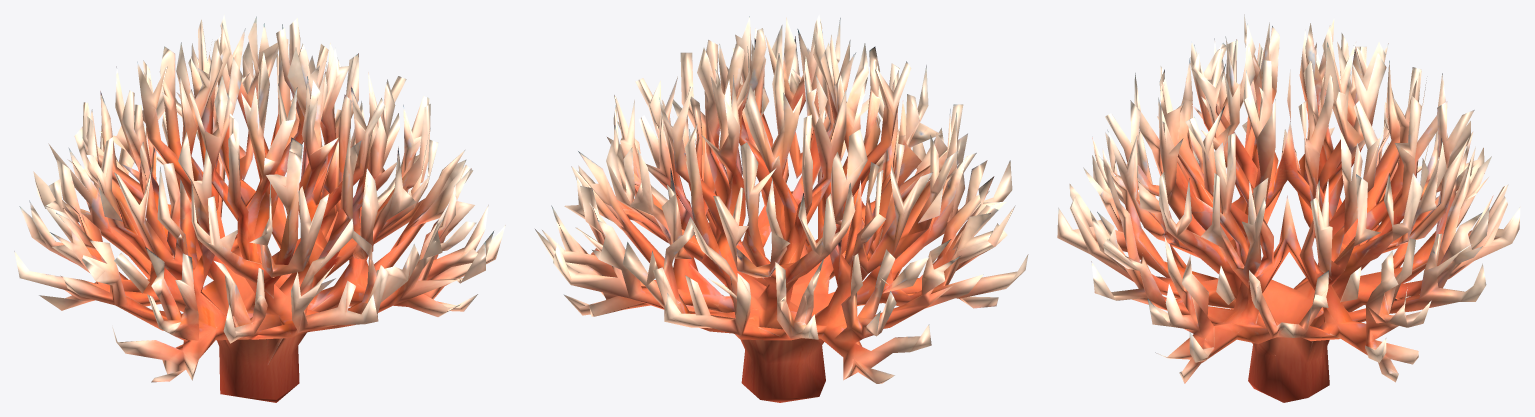
3 views of the same model, side by side, from view 1: azimuth 30°, elevation 25°; view 2: azimuth 150°, elevation 25°; view 3: azimuth 270°, elevation 25° (orthographic).
Visible parts, largest first — view 1: Mesh_0; view 2: Mesh_0; view 3: Mesh_0.
Boxes of the visible parts, <box> form: Mesh_0: <box>14,14,505,402</box>; Mesh_0: <box>535,14,1028,402</box>; Mesh_0: <box>1057,14,1520,402</box>.
Size of the model in its own units: 1.89 by 1.63 by 1.9.
1 material, 1 textured.
